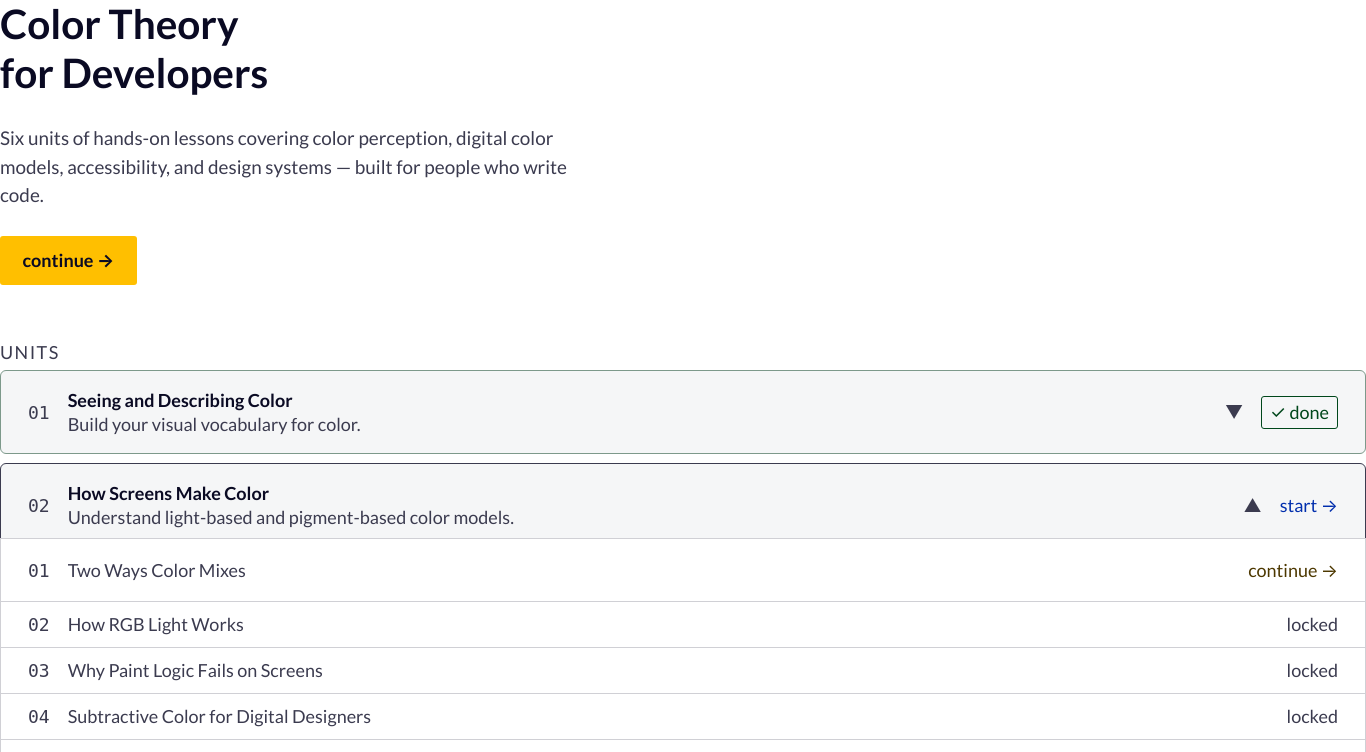
Scenario: HomePage dashboard › marks a completed unit done and expands the next unit
Check: the text "✓ done" is shown, box [1261,396,1338,429]
Click the button "Seeing and Describing Color": click(180, 400) [1,371,1243,453]
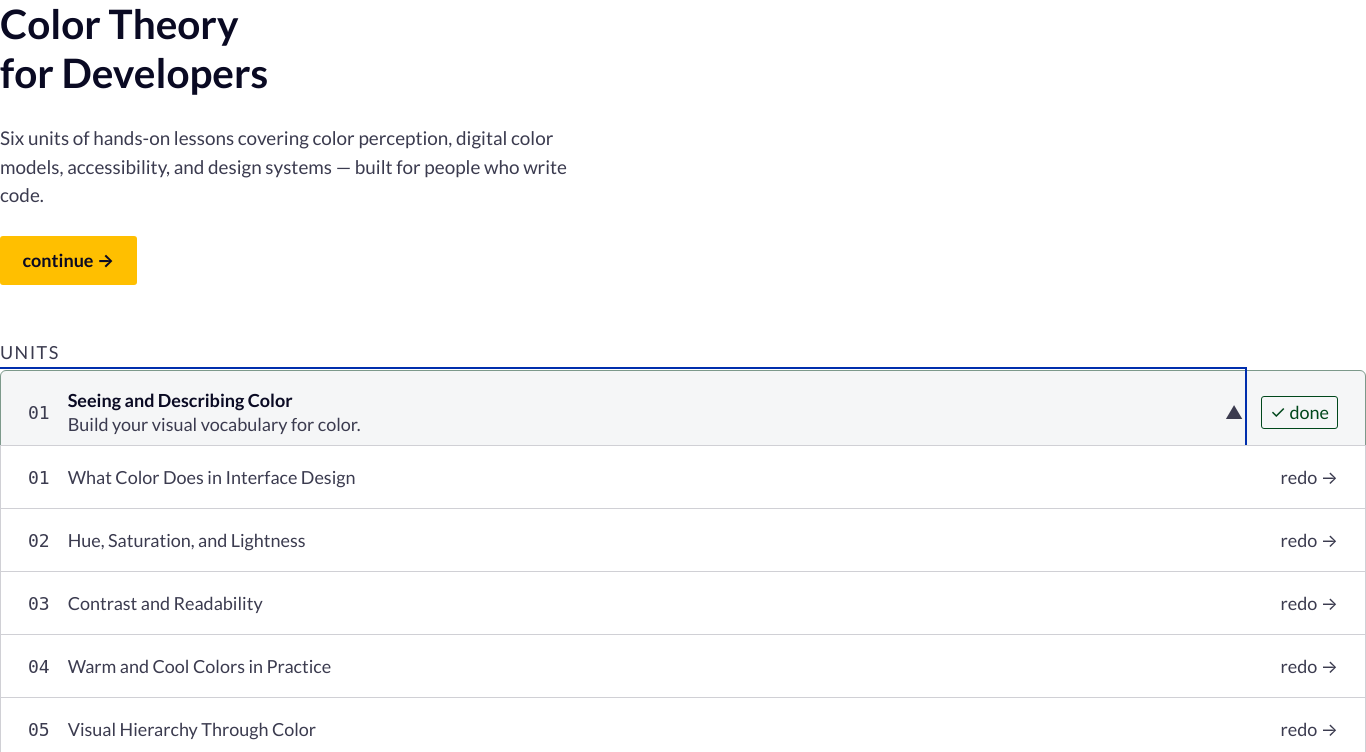
Check: the button "Seeing and Describing Color" is expanded
Click the button "Seeing and Describing Color": click(180, 400) [1,371,1243,453]
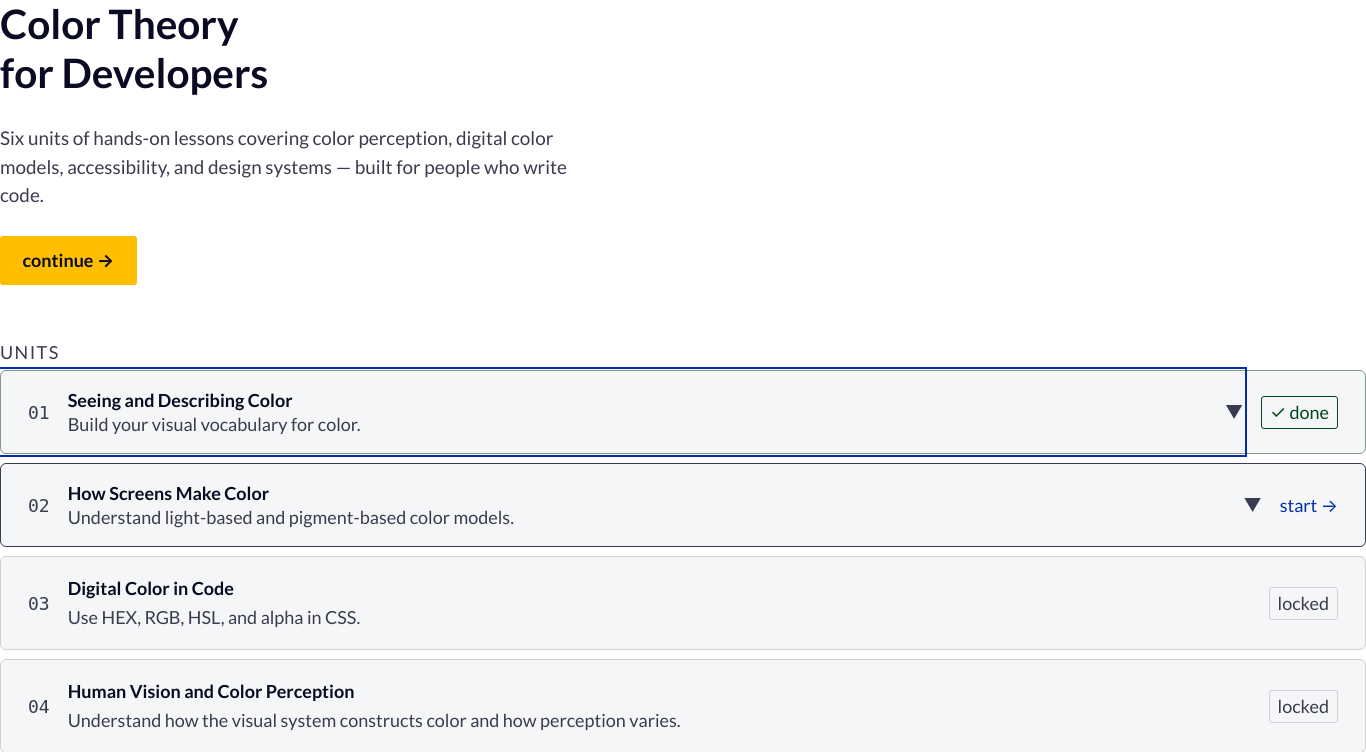
Check: the button "Seeing and Describing Color" is collapsed, box [1,371,1243,453]
